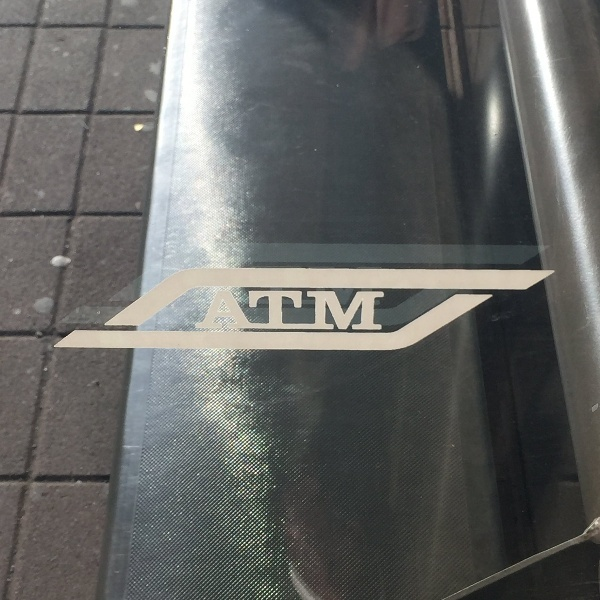text: (369, 290, 385, 332), (225, 290, 240, 332), (241, 290, 256, 332), (257, 290, 272, 332), (273, 290, 288, 332), (289, 290, 304, 332), (305, 290, 320, 332), (321, 290, 336, 332), (337, 290, 352, 332), (353, 290, 368, 332), (217, 290, 224, 332)
